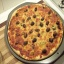olives: (39, 17, 50, 32), (15, 19, 29, 29), (26, 16, 35, 28), (23, 31, 28, 47), (38, 49, 49, 55), (47, 35, 53, 44), (31, 37, 39, 42)
pizza: (9, 5, 59, 55)
